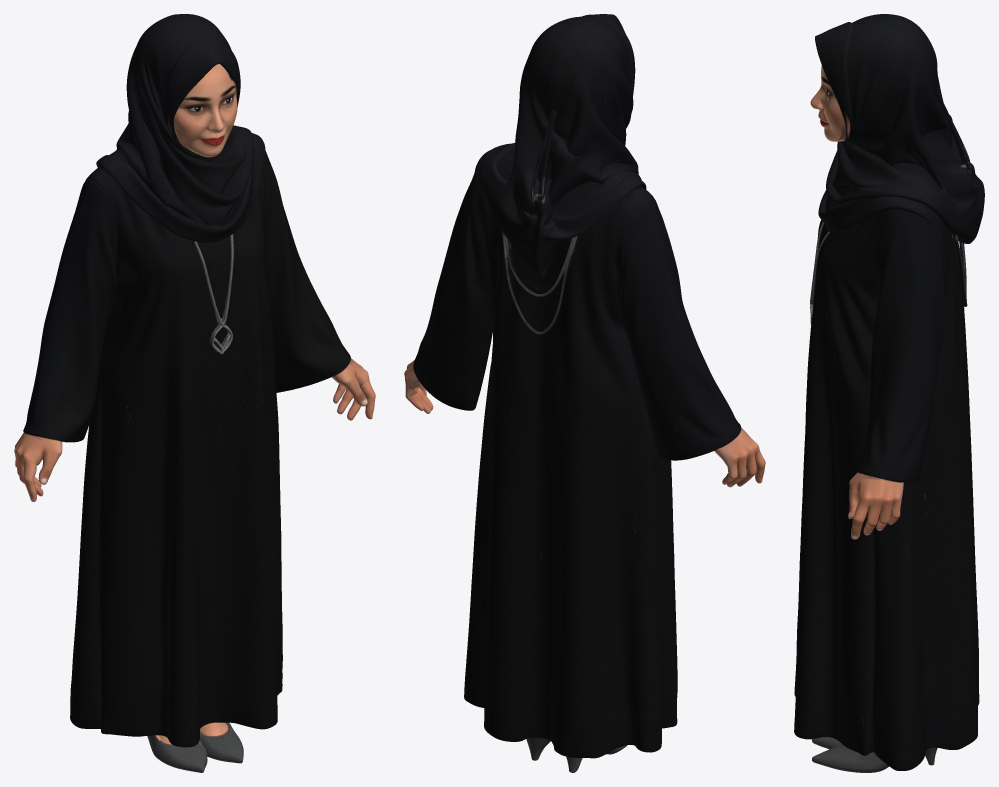
File: employee-02.glb
The picture shows the model from 3 angles, left to right: view 1: azimuth 30°, elevation 25°; view 2: azimuth 150°, elevation 25°; view 3: azimuth 270°, elevation 25°; orthographic projection.
Size of the model in its own units: 0.9583 by 1.9 by 0.4462.
Materials: 1 (1 with a texture image).
